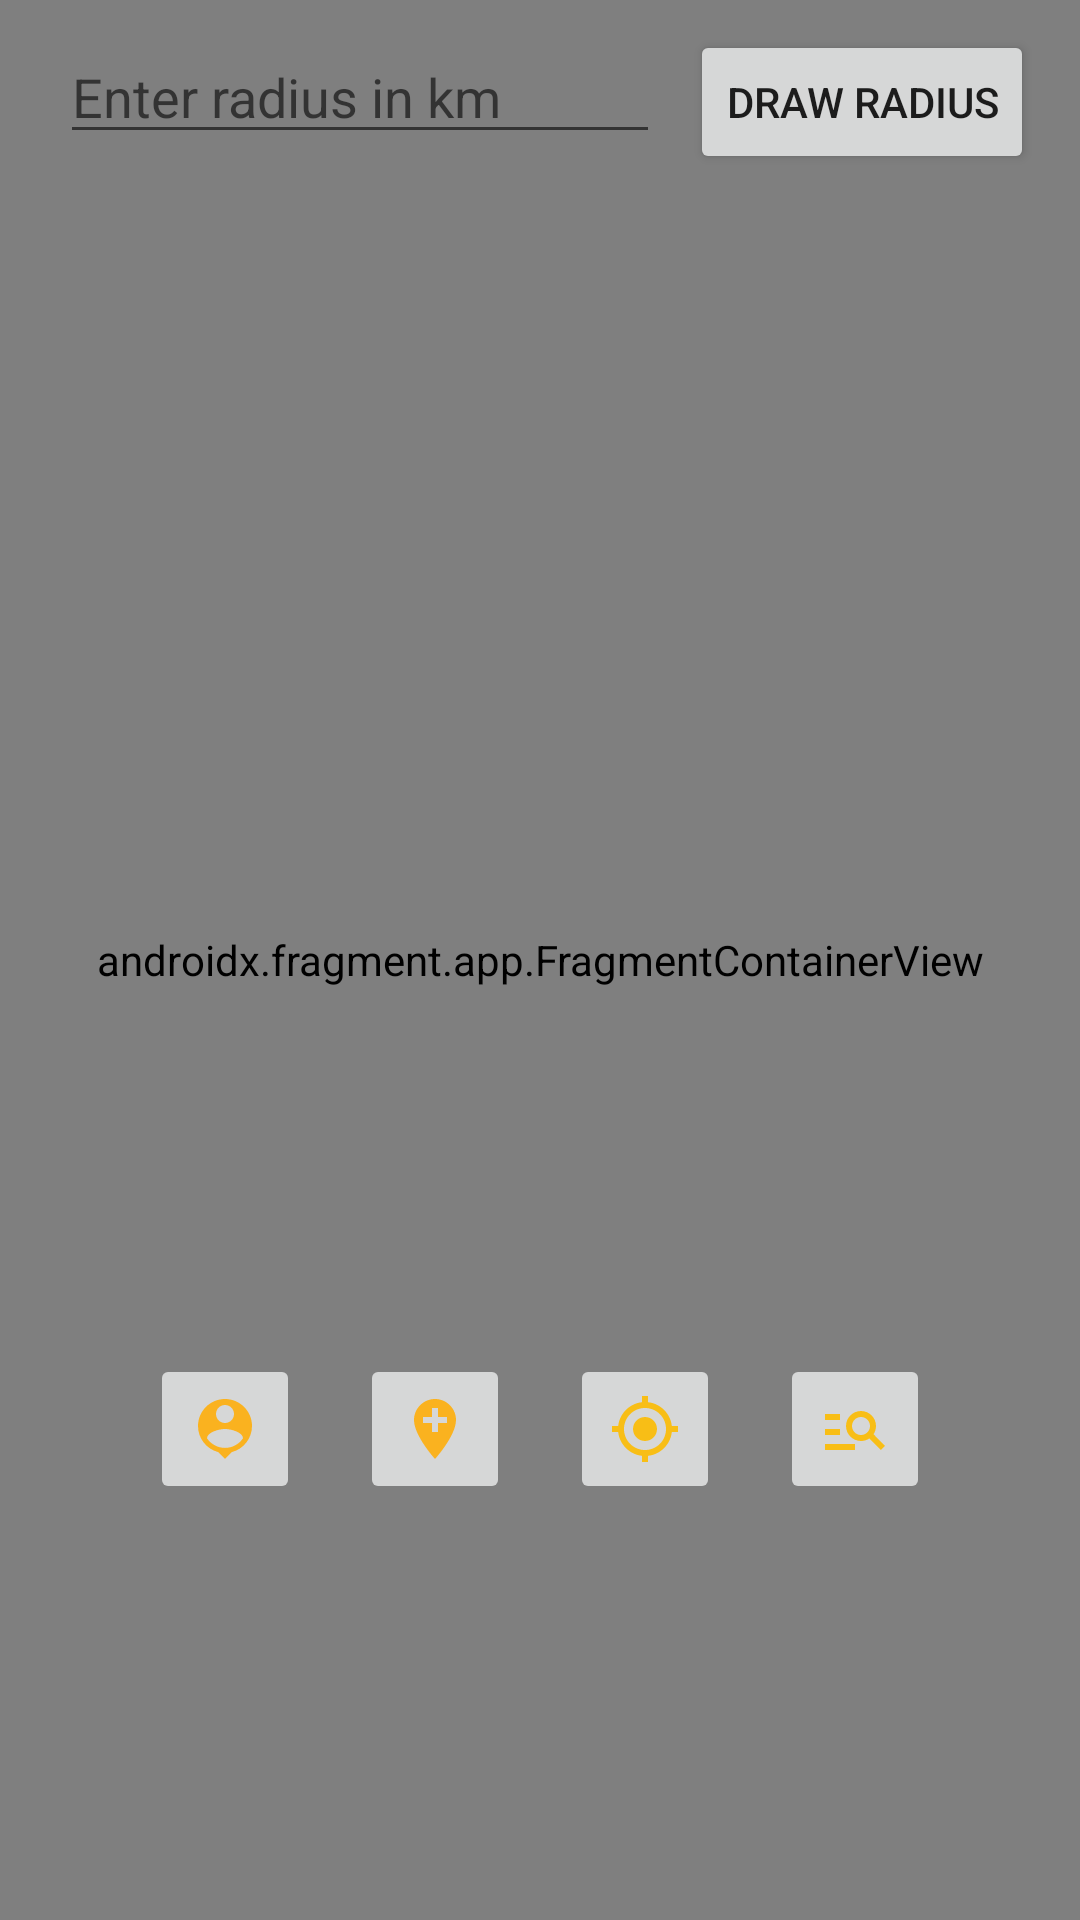

Icon bounding boxes for this 1080x1920 phone screenshot, format (x1, y1, x2, y2):
add location: (372, 1372, 498, 1486)
location: (582, 1372, 708, 1486)
manage search: (792, 1372, 918, 1486)
person pin: (162, 1372, 288, 1486)
